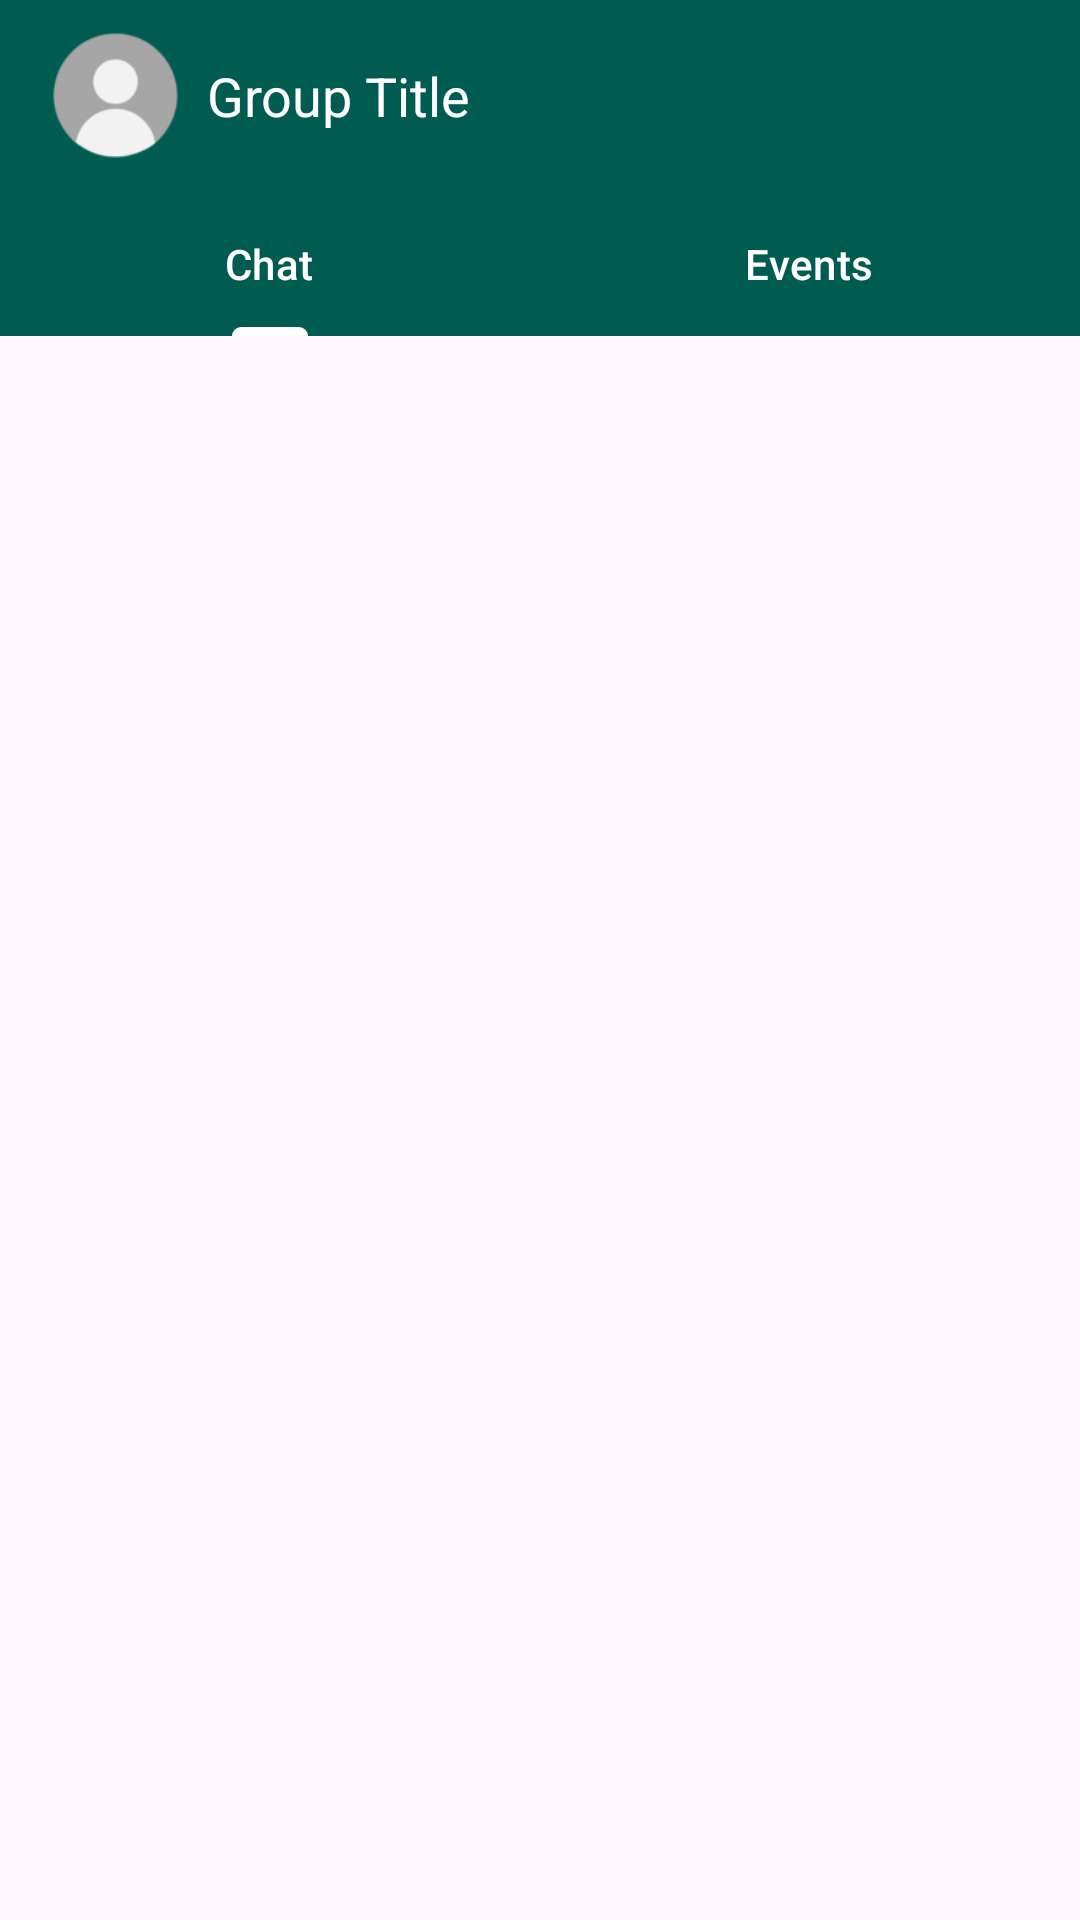

Point at icon controls on the screen. Image size 1080*1920, points as [x,y].
profile photo: [115,95]
